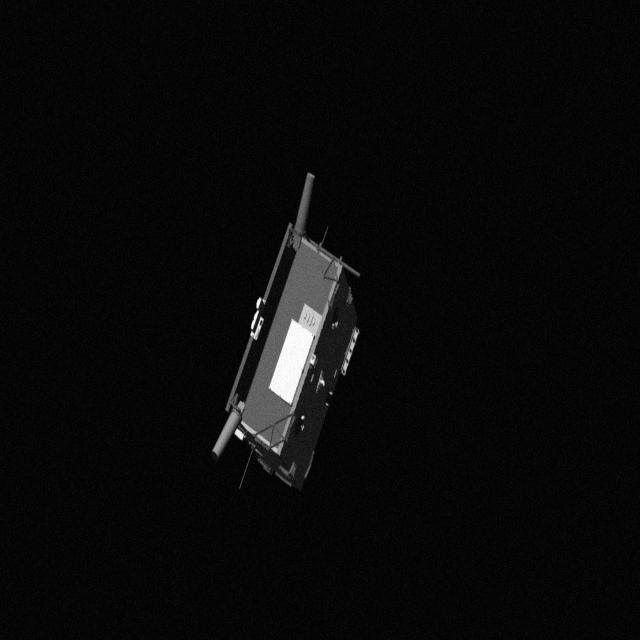satellite: (208, 164, 386, 492)
